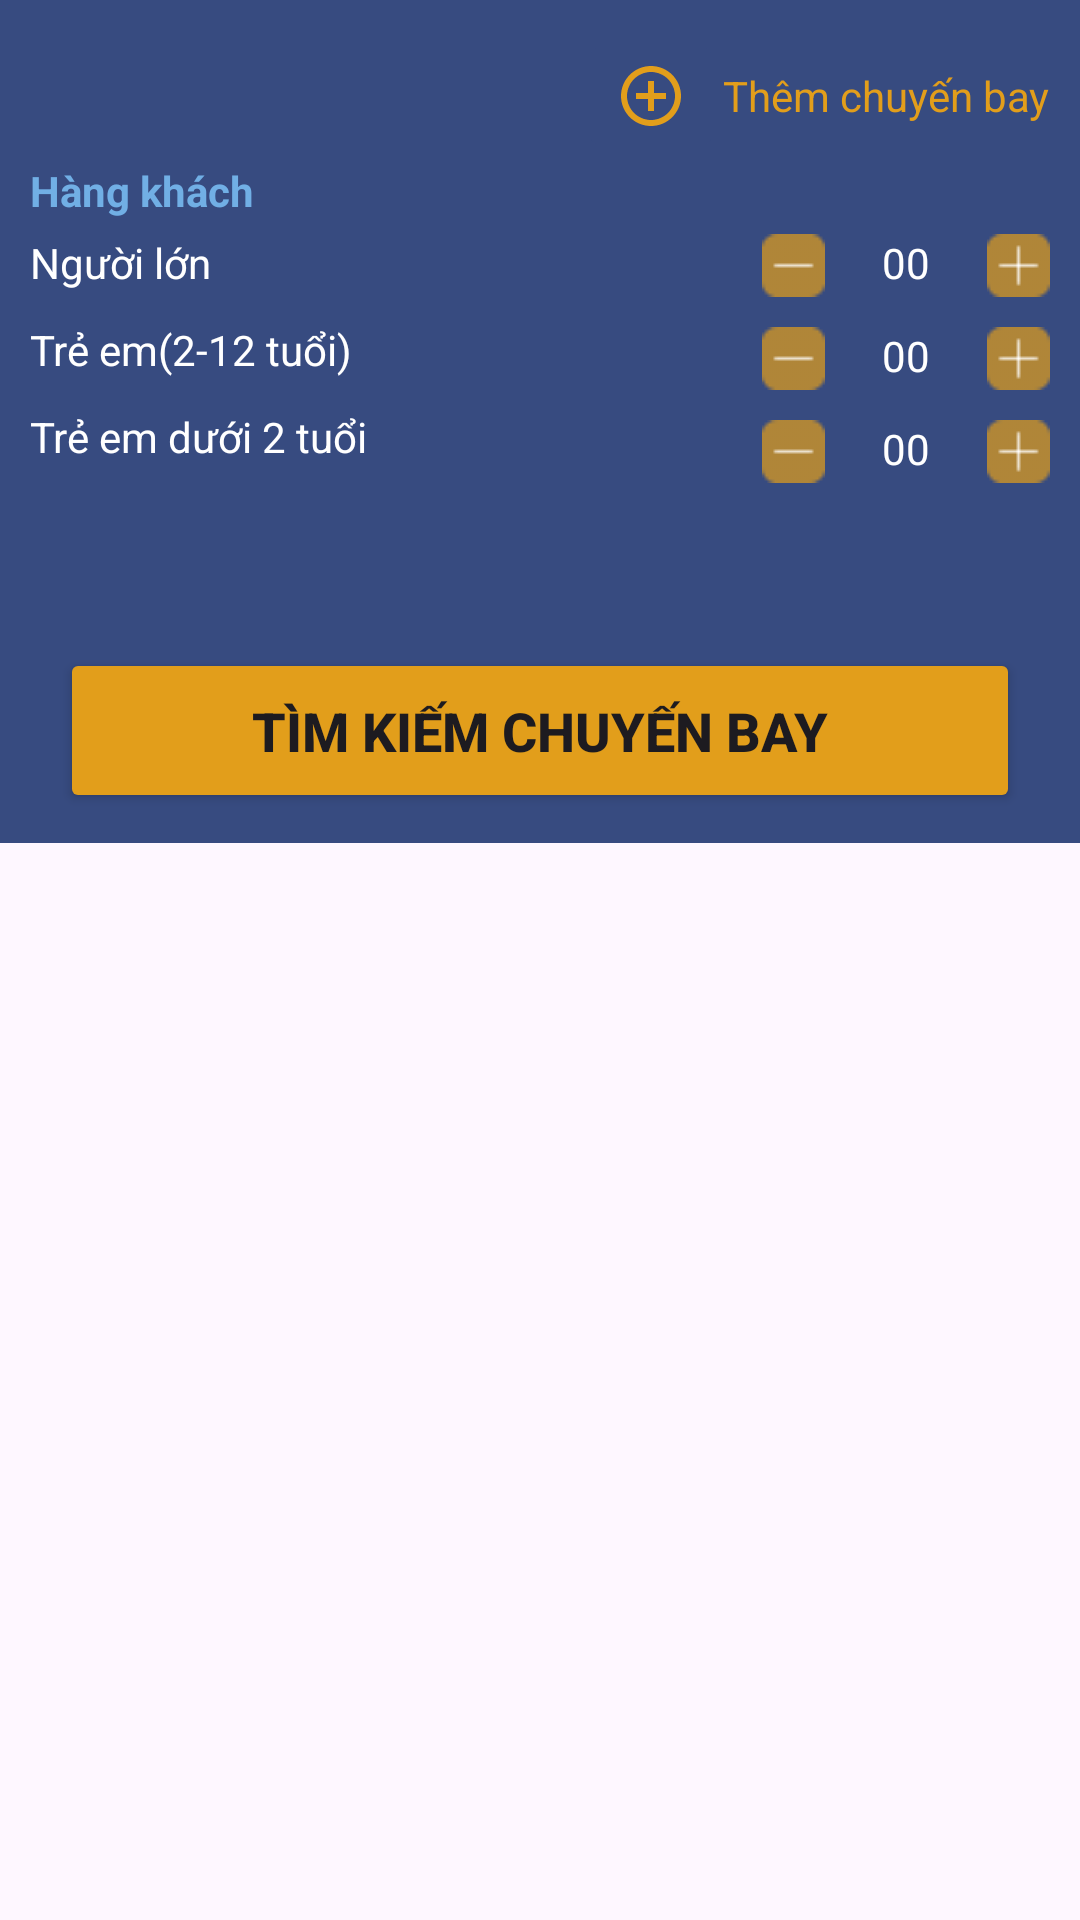

Screen size 1080*1920. Icon name, then its box in pixels as region(x1, y1, x2, y2):
add chuyenbay: region(621, 66, 681, 126)
minus: region(762, 234, 825, 297), region(762, 327, 825, 390), region(762, 420, 825, 483)
plus: region(987, 234, 1050, 297), region(987, 327, 1050, 390), region(987, 420, 1050, 483)
